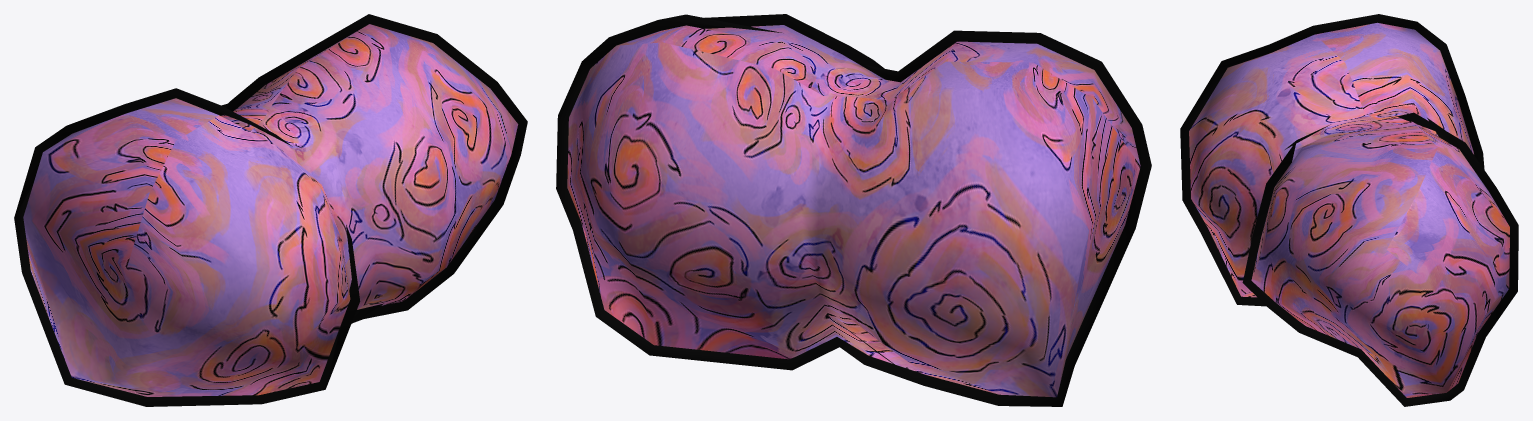
Rendered from s0_Bush_01__1__01.glb.
3 renders of one model, left to right at view 1: azimuth 30°, elevation 25°; view 2: azimuth 150°, elevation 25°; view 3: azimuth 270°, elevation 25°, orthographic. The views are drawn at different scales.
Visible parts, largest first — view 1: node_Bush_01 (1); view 2: node_Bush_01 (1); view 3: node_Bush_01 (1).
Boxes of the visible parts, x1,y1,x2,y2 form: node_Bush_01 (1): (14, 14, 527, 406); node_Bush_01 (1): (556, 14, 1151, 406); node_Bush_01 (1): (1180, 14, 1518, 406).
Size of what is drawn, in the model's own units: 2.4 by 1.36 by 1.59.
Materials: 2 (1 with a texture image).
